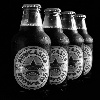beer: (15, 3, 53, 99)
